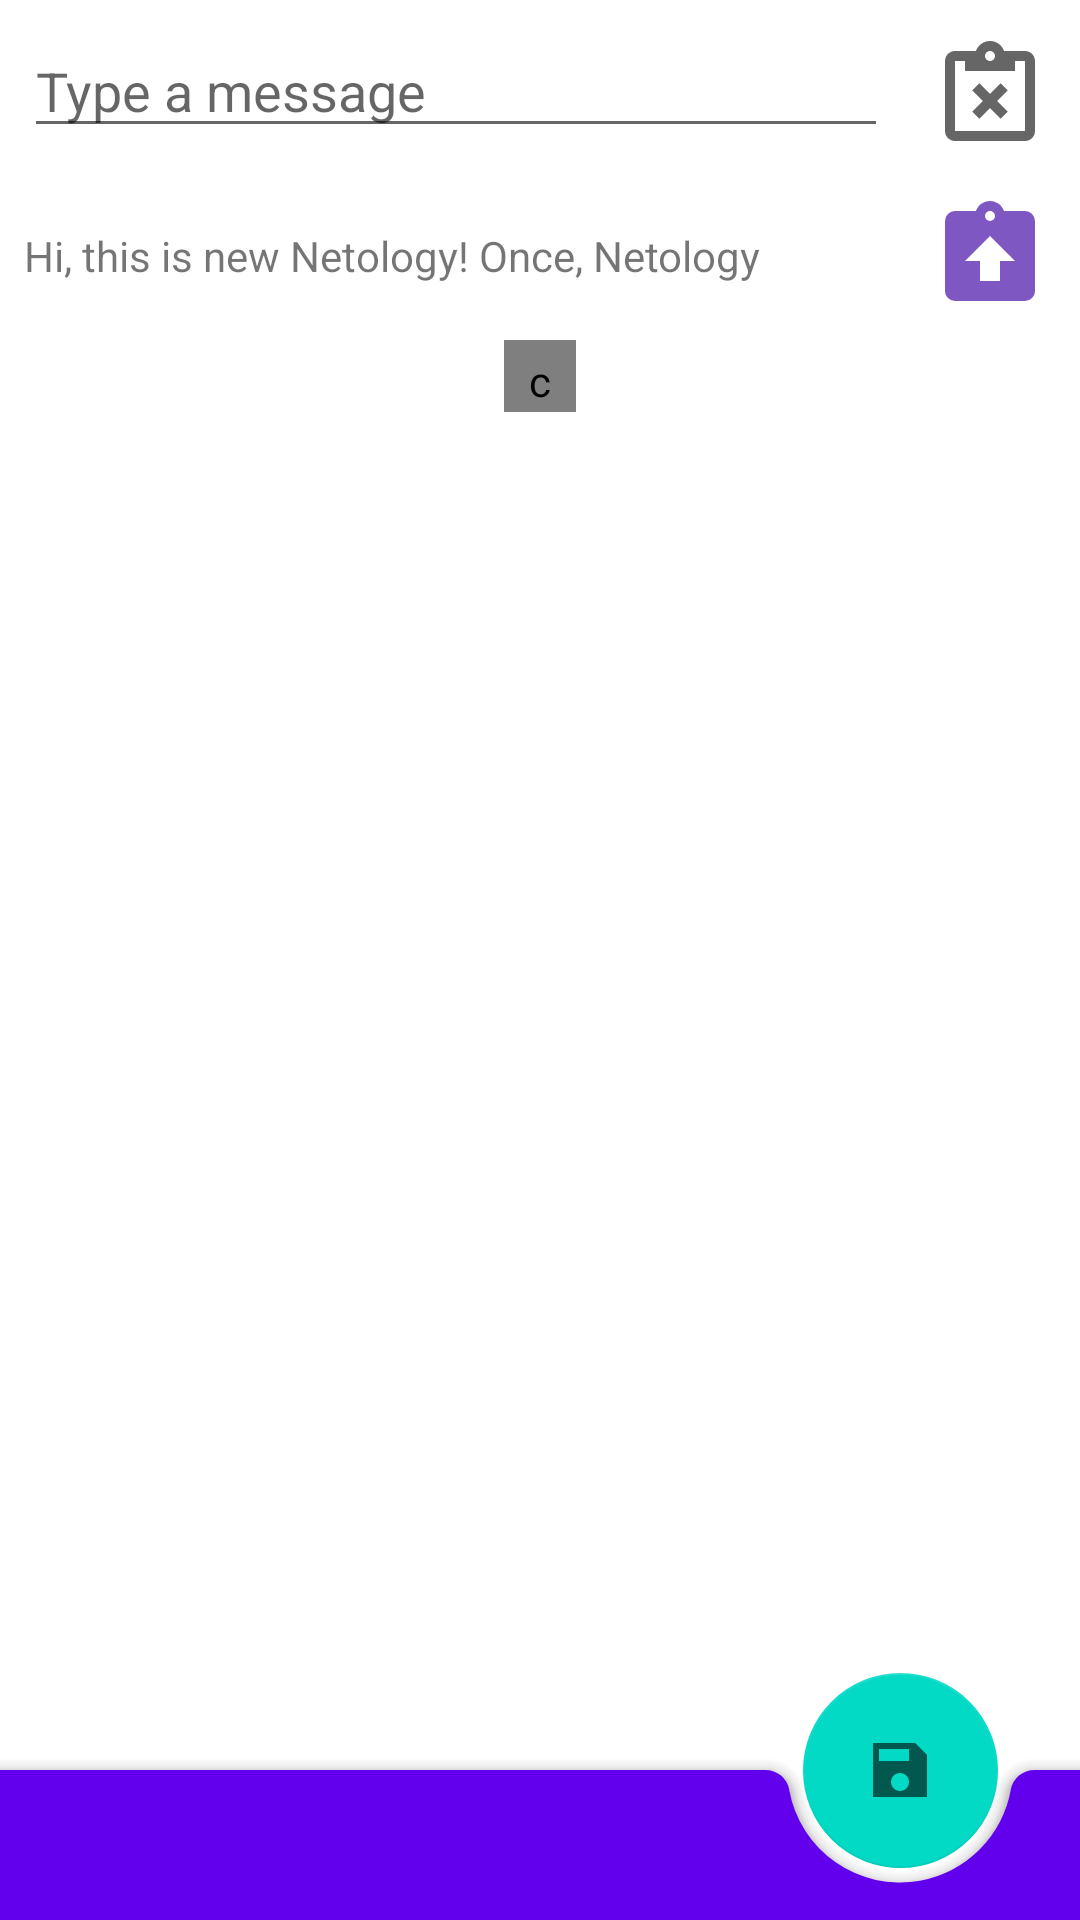

Icon click points for this 1080 × 1920 phone screenshot, format (x,y):
clear: (990,91)
prev text: (990,251)
